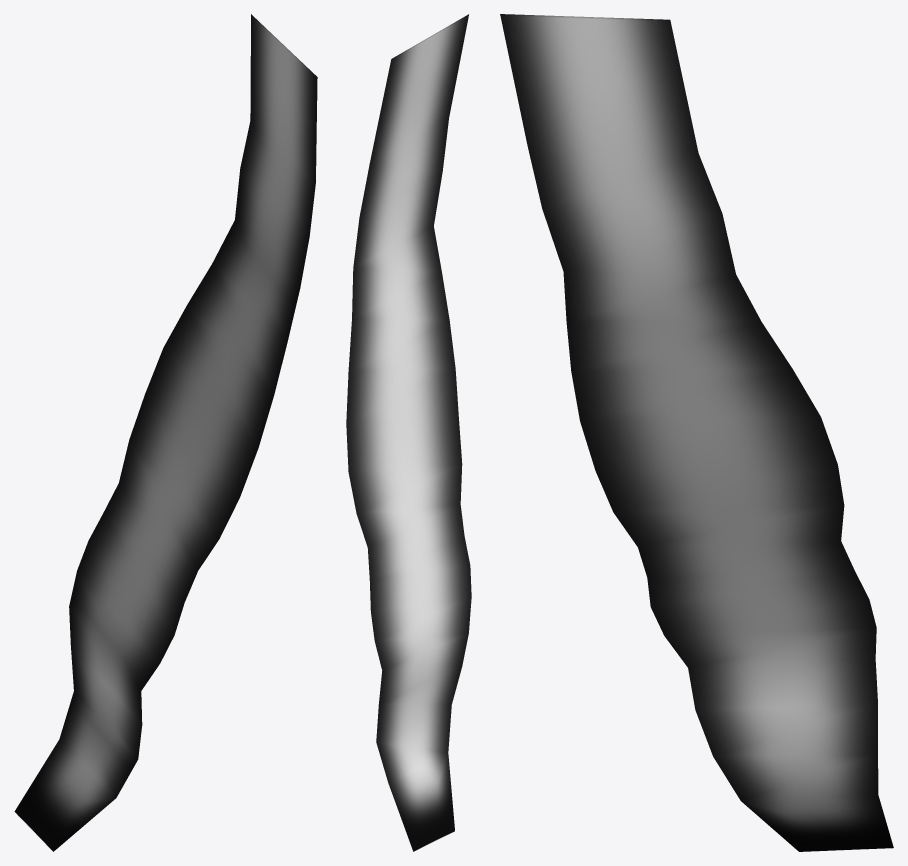
Rendered from texiao08.FBX.
The picture shows the model from 3 angles, left to right: view 1: azimuth 30°, elevation 25°; view 2: azimuth 150°, elevation 25°; view 3: azimuth 270°, elevation 25°; orthographic projection. The views are drawn at different scales.
Parts seen in each view (by area): view 1: texiao08; view 2: texiao08; view 3: texiao08.
Boxes of the visible parts, x1=… form: texiao08: x1=14, y1=14, x2=317, y2=851; texiao08: x1=346, y1=14, x2=471, y2=851; texiao08: x1=500, y1=14, x2=893, y2=851.
Size of the model in its own units: 7.85 by 41.91 by 16.56.
